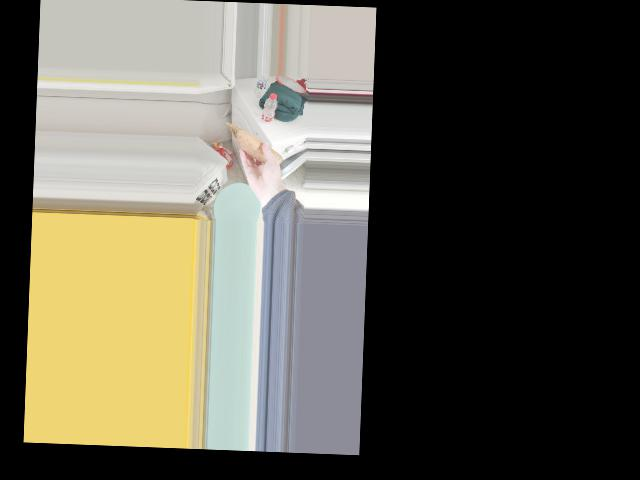sweet_potato: (244, 137, 281, 170)
